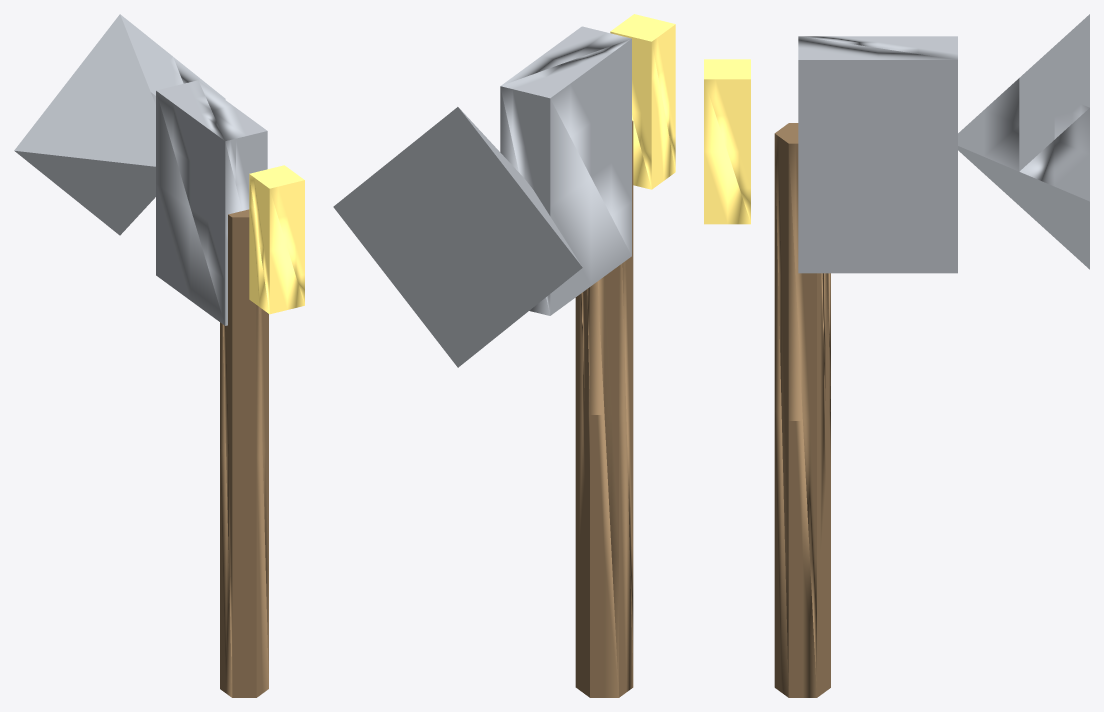
The model's file is axe.glb.
3 views of the same model, side by side, from view 1: azimuth 30°, elevation 25°; view 2: azimuth 150°, elevation 25°; view 3: azimuth 270°, elevation 25° (orthographic). The views are drawn at different scales.
Parts seen in each view (by area): view 1: AxeHandle; view 2: AxeHandle; view 3: AxeHandle.
Boxes of the visible parts, <box> form: AxeHandle: <box>14,14,304,697</box>; AxeHandle: <box>333,14,675,697</box>; AxeHandle: <box>704,14,1089,697</box>.
Bounding box in the file's own units: 0.6 × 1.58 × 0.82.
